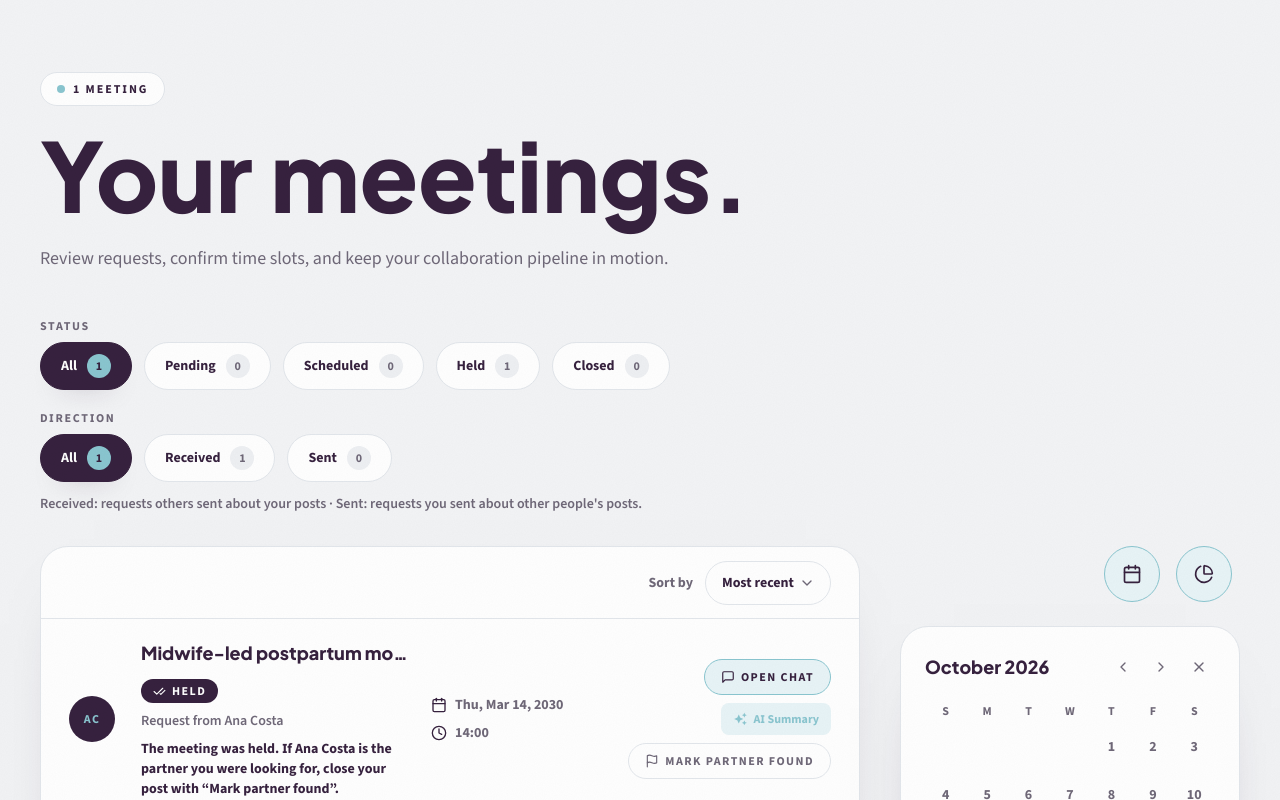
Scenario: MeetingsPage › asks before closing the post with Partner Found and then shows it as closed
Click the button "Mark partner found" at (730, 761), box [628,743,831,779]
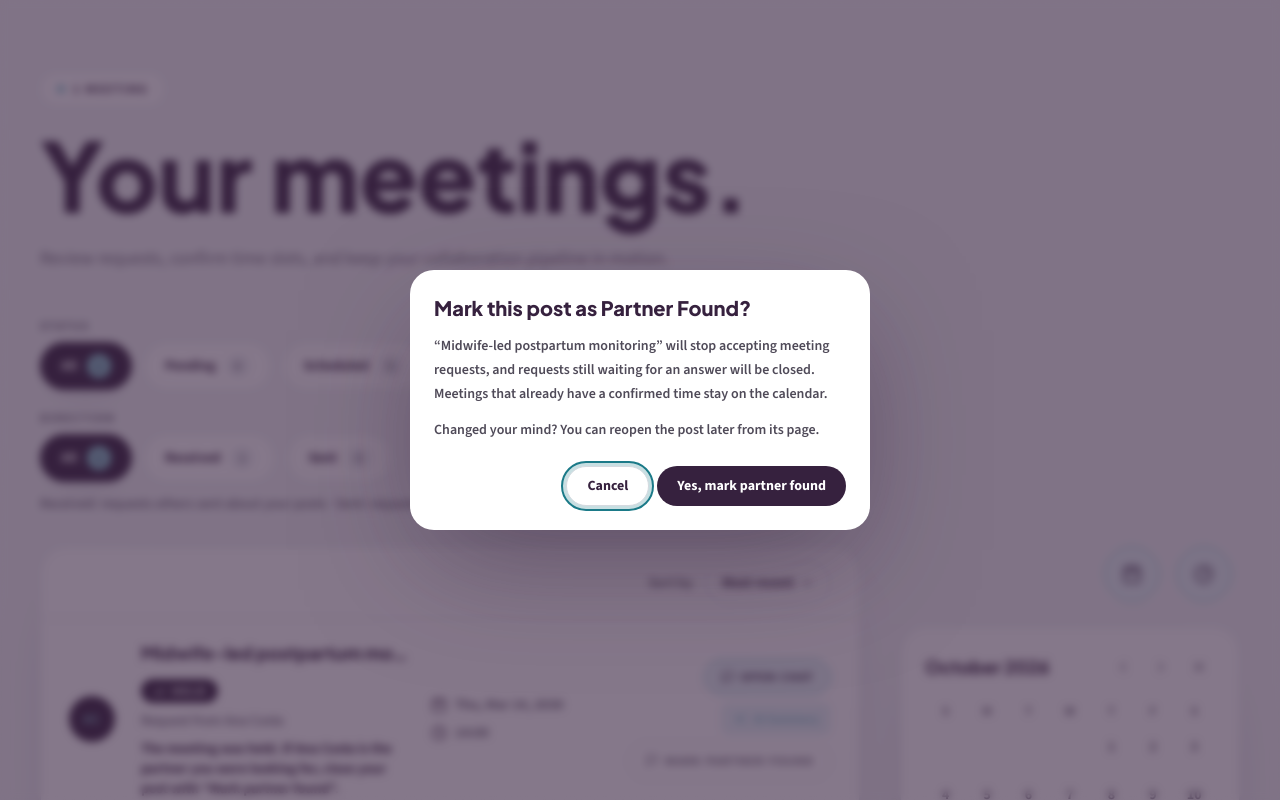
Expected: the dialog shows "requests still waiting for an answer will be closed", [434,336,830,403]
Click the button "Yes, mark partner found" at (752, 486), box [657,466,846,506]
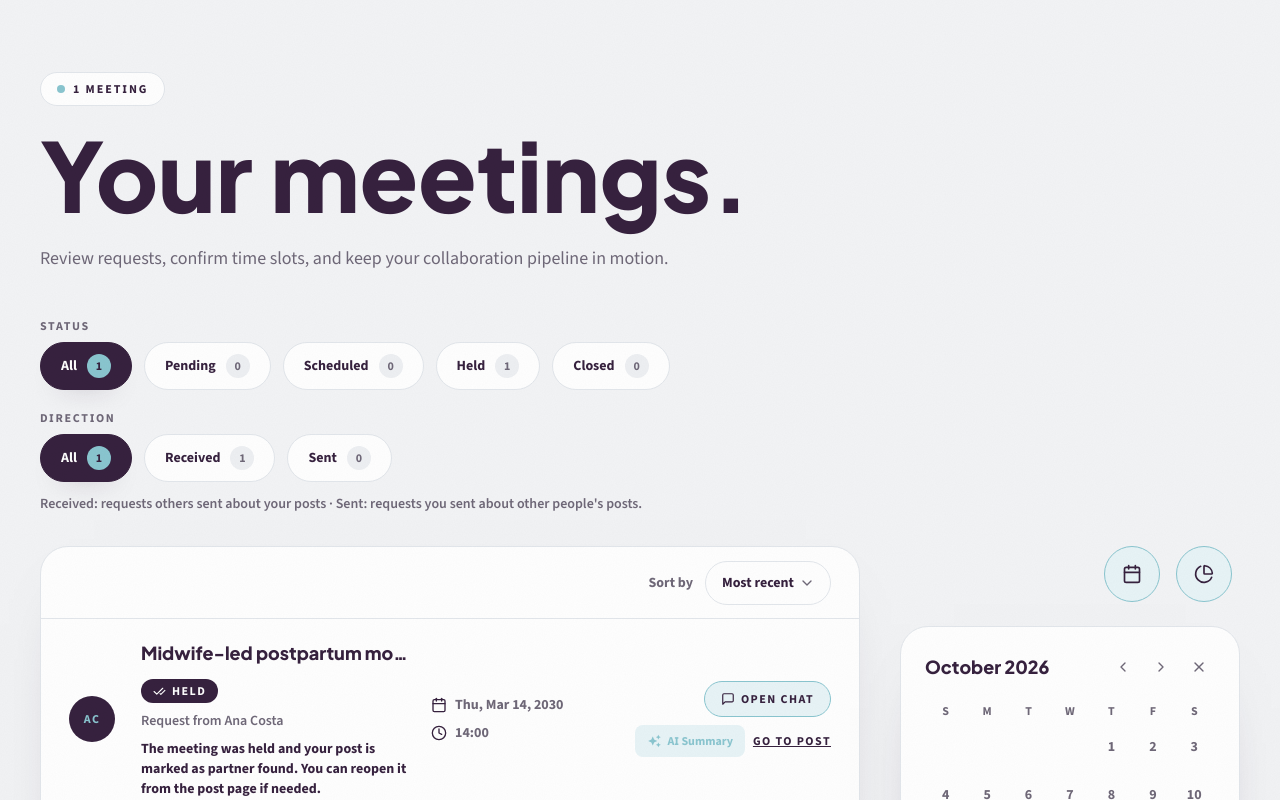
Expected: the text "your post is marked as partner found" is shown, [141,739,406,798]
Expected: the text "mark partner found" is gone
